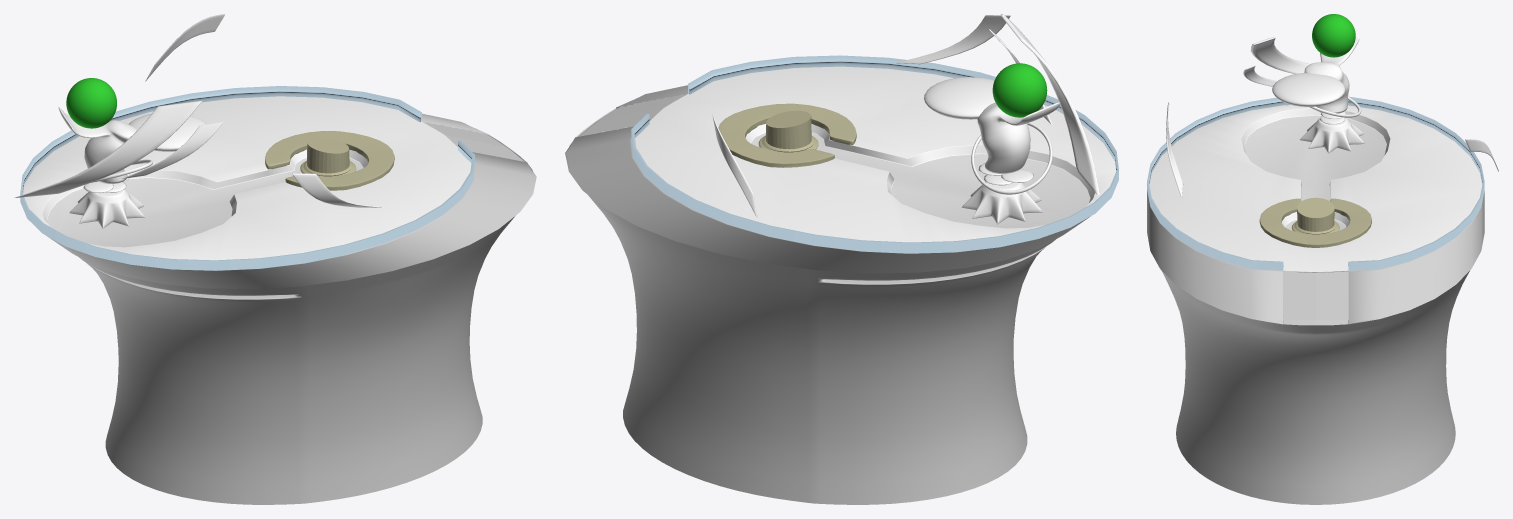
The model's file is RparkTex.fbx.
The picture shows the model from 3 angles, left to right: view 1: azimuth 30°, elevation 25°; view 2: azimuth 150°, elevation 25°; view 3: azimuth 270°, elevation 25°; orthographic projection. The views are drawn at different scales.
Parts seen in each view (by area): view 1: platform_botton, platform_up (×3), platform_up_glass, tree_line, platform_semicircle, tree_sphere_small, tree_root, tree_body, ColumnOrderDoric, stair, tree_line_small, tree_line_small__2_ (+2 smaller); view 2: platform_botton, platform_up (×3), platform_up_glass, platform_semicircle, tree_body, tree_sphere, tree_sphere_small, tree_line, tree_root, ColumnOrderDoric, stair, tree_line_small__2_ (+2 smaller); view 3: platform_up (×3), platform_botton, platform_up_glass, stair, platform_semicircle, tree_sphere, tree_sphere_small, tree_root, ColumnOrderDoric, tree_body, tree_line, tree_line_small__2_.
Part boxes in pixels (x1=…): platform_botton: x1=79, y1=135, x2=532, y2=504; platform_up (×3): x1=23, y1=96, x2=536, y2=289; platform_up_glass: x1=20, y1=86, x2=474, y2=270; tree_line: x1=14, y1=100, x2=201, y2=197; platform_semicircle: x1=265, y1=131, x2=394, y2=190; tree_sphere_small: x1=66, y1=78, x2=116, y2=128; tree_root: x1=69, y1=189, x2=144, y2=228; tree_body: x1=58, y1=107, x2=136, y2=183; ColumnOrderDoric: x1=300, y1=137, x2=356, y2=176; stair: x1=424, y1=122, x2=524, y2=161; tree_line_small: x1=122, y1=121, x2=223, y2=178; tree_line_small__2_: x1=292, y1=173, x2=384, y2=207; platform_botton: x1=569, y1=108, x2=1055, y2=504; platform_up (×3): x1=565, y1=66, x2=1115, y2=273; platform_up_glass: x1=631, y1=55, x2=1118, y2=253; platform_semicircle: x1=718, y1=103, x2=856, y2=167; tree_body: x1=977, y1=102, x2=1060, y2=173; tree_sphere: x1=924, y1=77, x2=995, y2=119; tree_sphere_small: x1=992, y1=63, x2=1047, y2=117; tree_line: x1=1001, y1=14, x2=1099, y2=195; tree_root: x1=961, y1=181, x2=1042, y2=224; ColumnOrderDoric: x1=758, y1=110, x2=818, y2=152; stair: x1=578, y1=94, x2=685, y2=136; tree_line_small__2_: x1=896, y1=15, x2=1010, y2=64; platform_up (×3): x1=1147, y1=105, x2=1484, y2=325; platform_botton: x1=1161, y1=270, x2=1469, y2=504; platform_up_glass: x1=1147, y1=96, x2=1484, y2=270; stair: x1=1283, y1=271, x2=1348, y2=324; platform_semicircle: x1=1259, y1=198, x2=1371, y2=247; tree_sphere: x1=1272, y1=73, x2=1345, y2=106; tree_sphere_small: x1=1312, y1=14, x2=1355, y2=57; tree_root: x1=1300, y1=117, x2=1364, y2=153; ColumnOrderDoric: x1=1291, y1=197, x2=1339, y2=234; tree_body: x1=1304, y1=35, x2=1359, y2=113; tree_line: x1=1250, y1=37, x2=1310, y2=73; tree_line_small__2_: x1=1166, y1=102, x2=1183, y2=197.
Size of the model in its own units: 11709 by 9053 by 8569.
